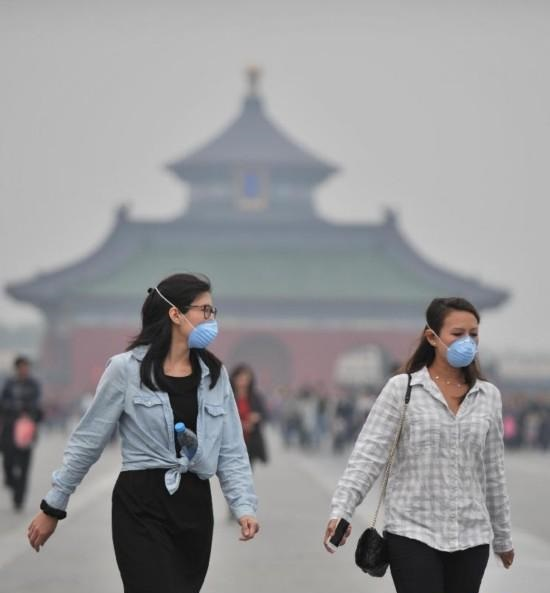face_mask: (438, 312, 478, 367), (183, 293, 215, 347)
